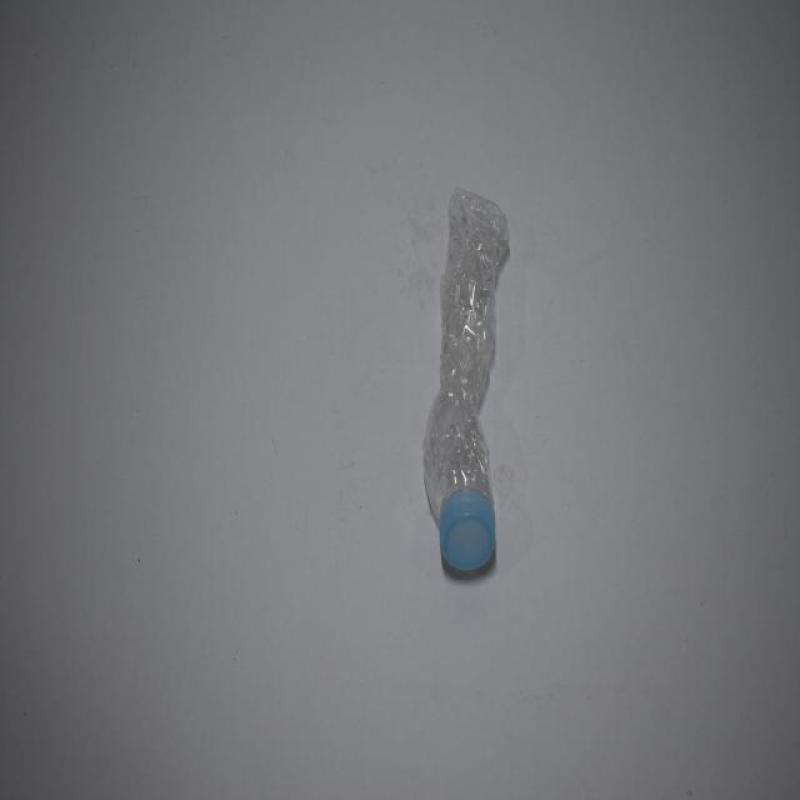botella: (419, 192, 513, 578)
